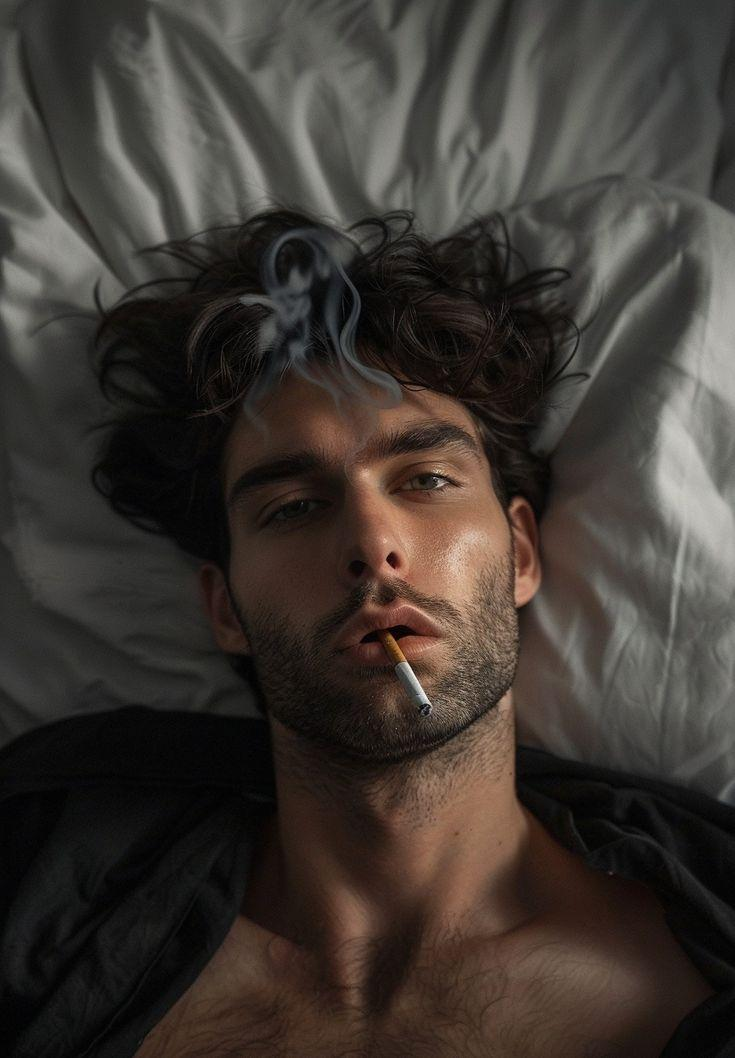cigarette: (376, 627, 432, 717)
